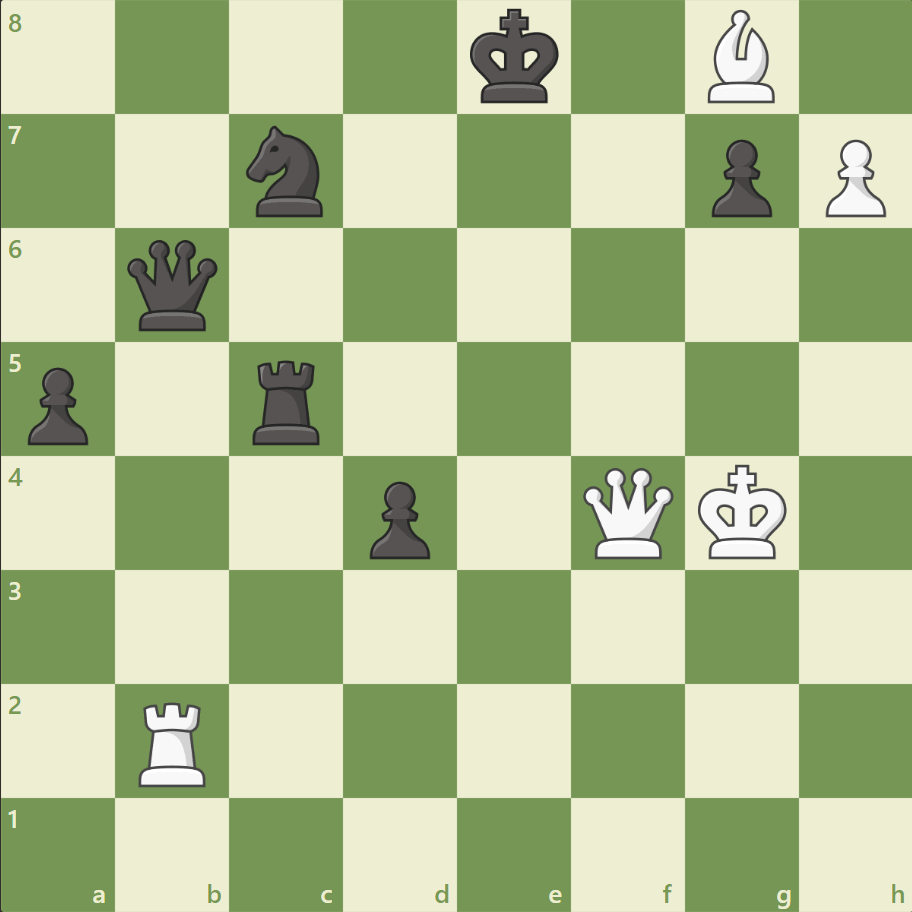B: (698, 6, 782, 109)
K: (692, 458, 792, 566)
P: (815, 132, 889, 223)
Q: (578, 463, 677, 562)
R: (133, 693, 215, 790)
k: (465, 4, 565, 112)
n: (238, 121, 335, 223)
p: (701, 132, 776, 223), (20, 359, 95, 450), (361, 473, 435, 564)
q: (124, 236, 223, 335)
r: (246, 352, 329, 449)
